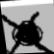not correct: (1, 8, 54, 54)
